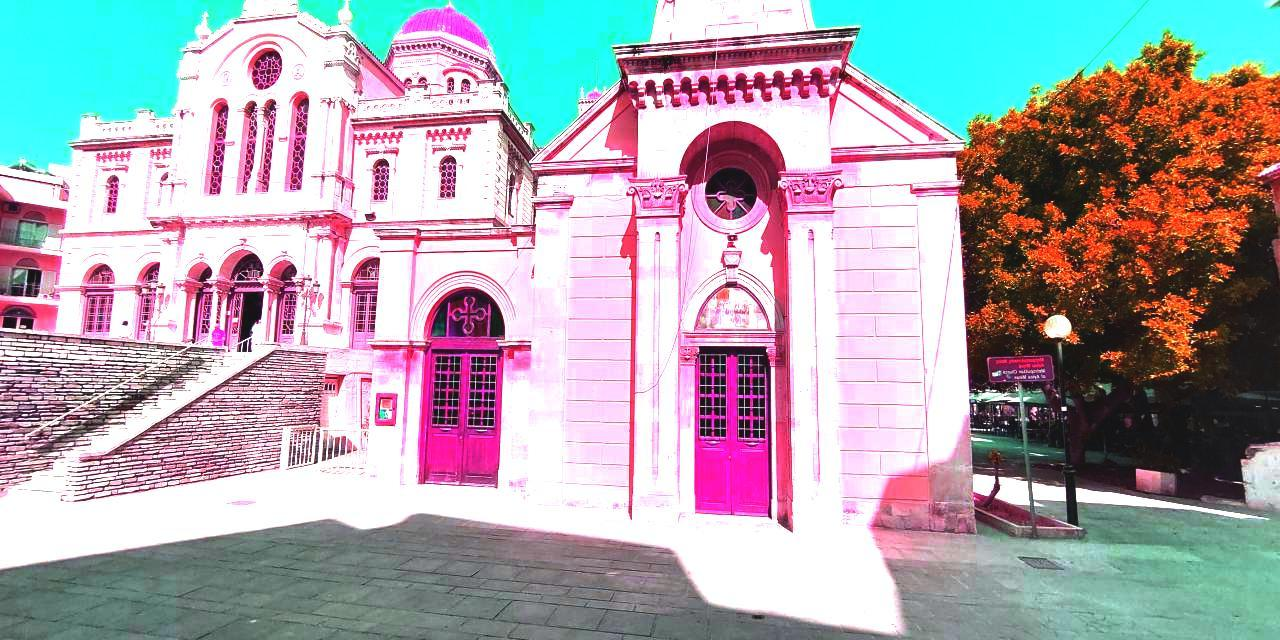Agios Minas: (54, 3, 992, 535)
